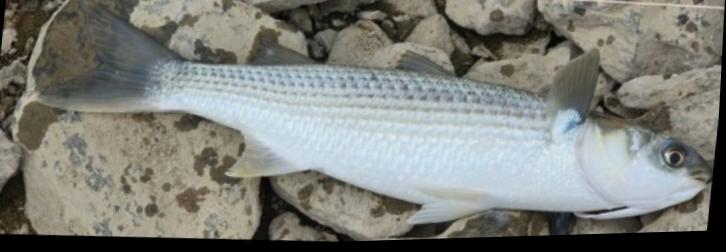fish: (36, 1, 713, 228)
